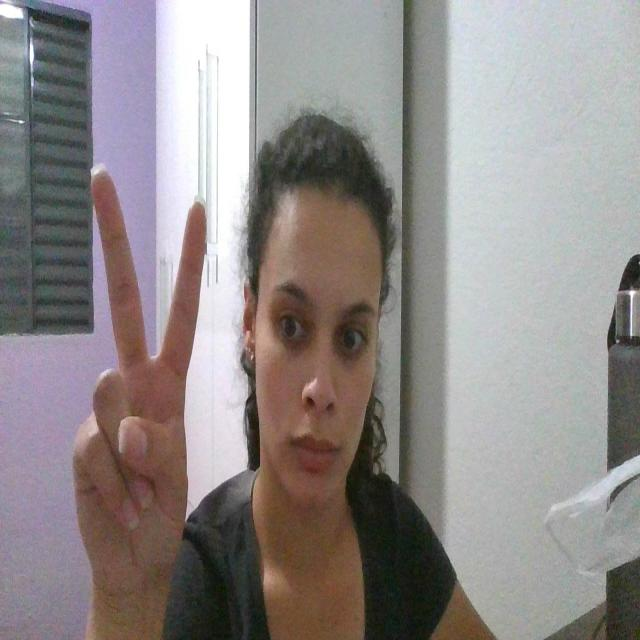V: (64, 162, 209, 586)
